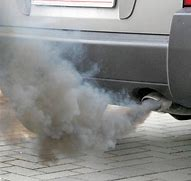smoke: (1, 41, 152, 158)
